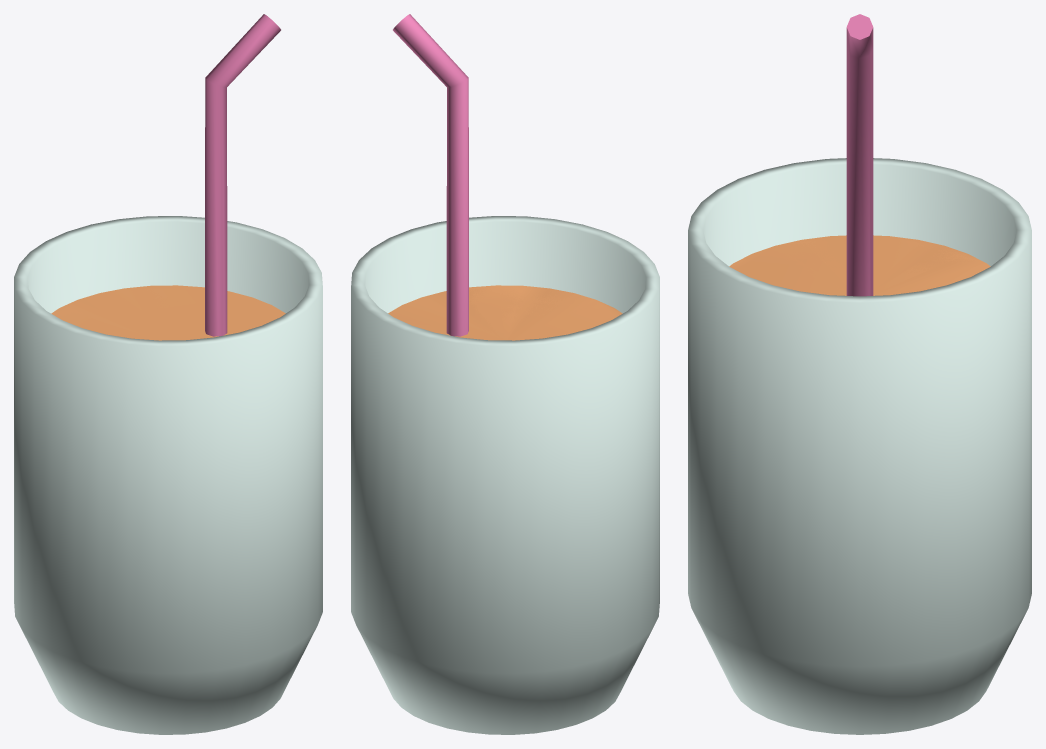
Rendered from nectar.glb.
3 views of the same model, side by side, from view 1: azimuth 30°, elevation 25°; view 2: azimuth 150°, elevation 25°; view 3: azimuth 270°, elevation 25° (orthographic). The views are drawn at different scales.
Parts seen in each view (by area): view 1: container_cup.002, edible_drink.002, container_straw.001; view 2: container_cup.002, edible_drink.002, container_straw.001; view 3: container_cup.002, edible_drink.002, container_straw.001.
Boxes of the visible parts, x1,y1,x2,y2 form: container_cup.002: (14, 216, 322, 734); edible_drink.002: (51, 285, 285, 340); container_straw.001: (205, 14, 280, 336); container_cup.002: (351, 216, 659, 734); edible_drink.002: (388, 285, 622, 340); container_straw.001: (393, 14, 468, 336); container_cup.002: (688, 158, 1031, 734); edible_drink.002: (729, 235, 990, 295); container_straw.001: (846, 14, 873, 296).
Bounding box in the file's own units: 0.09 × 0.2077 × 0.09.
